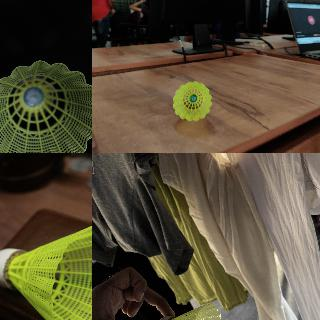shuttlecock: (0, 225, 91, 319), (0, 61, 91, 152), (172, 81, 212, 121), (157, 304, 222, 319)
